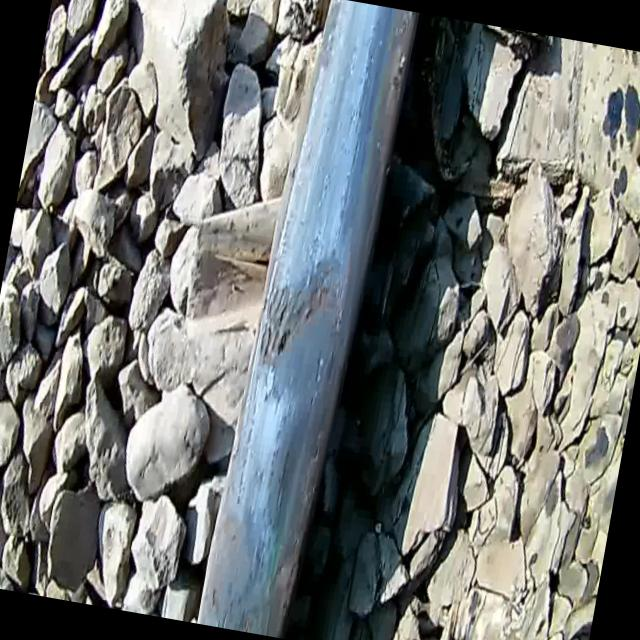Squats: (231, 224, 382, 410), (205, 389, 352, 560), (185, 541, 312, 640)
